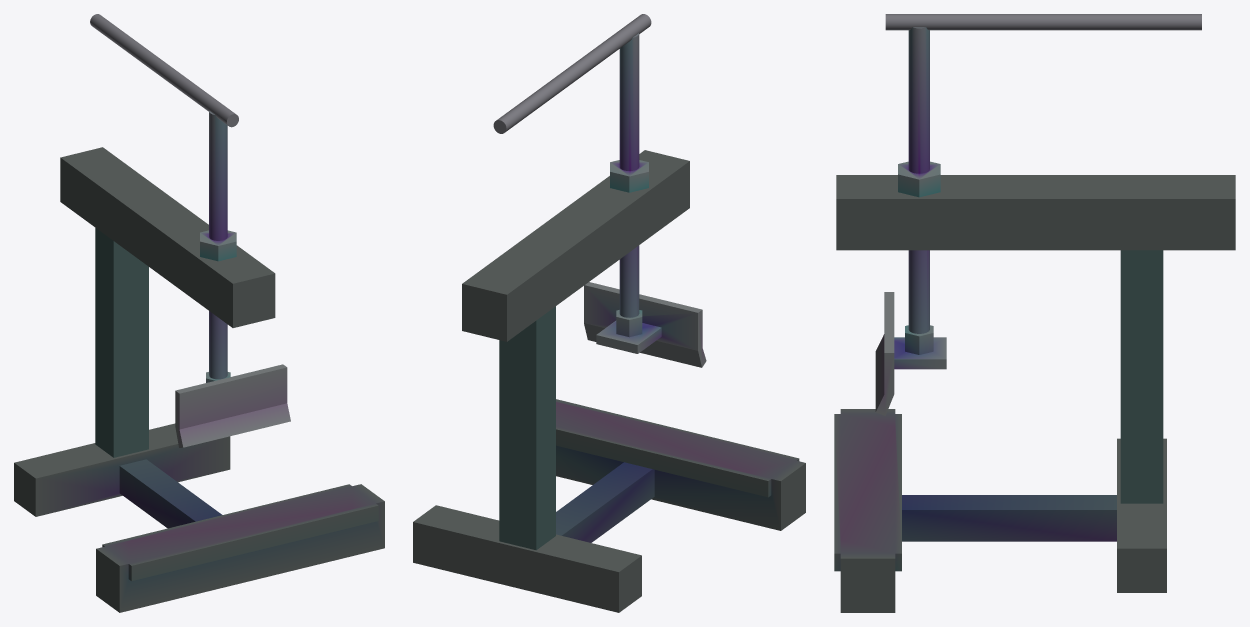
File: simready-tireTool_bead_breaker_b01.glb
The picture shows the model from 3 angles, left to right: view 1: azimuth 30°, elevation 25°; view 2: azimuth 150°, elevation 25°; view 3: azimuth 270°, elevation 25°; orthographic projection. The views are drawn at different scales.
Visible parts, largest first — view 1: working_foot, top_beam, upright, folded_face, shaft, handle; view 2: working_foot, top_beam, upright, folded_face, shaft, handle; view 3: top_beam, working_foot, upright, shaft, handle, folded_face.
Part boxes in pixels (x1,y1,x2,y2): working_foot: (14,423,384,612); top_beam: (60,147,275,327); upright: (95,228,148,457); folded_face: (175,364,290,447); shaft: (200,111,236,379); handle: (90,14,238,127); working_foot: (413,399,805,612); top_beam: (462,150,689,341); upright: (499,306,555,550); folded_face: (584,282,706,367); shaft: (610,33,648,317); handle: (493,14,651,133); top_beam: (836,175,1235,250); working_foot: (834,409,1166,612); upright: (1120,250,1163,503); shaft: (898,27,940,333); handle: (885,14,1201,30); folded_face: (875,292,946,415).
Bounding box in the file's own units: 0.3247 × 0.5292 × 0.368.
